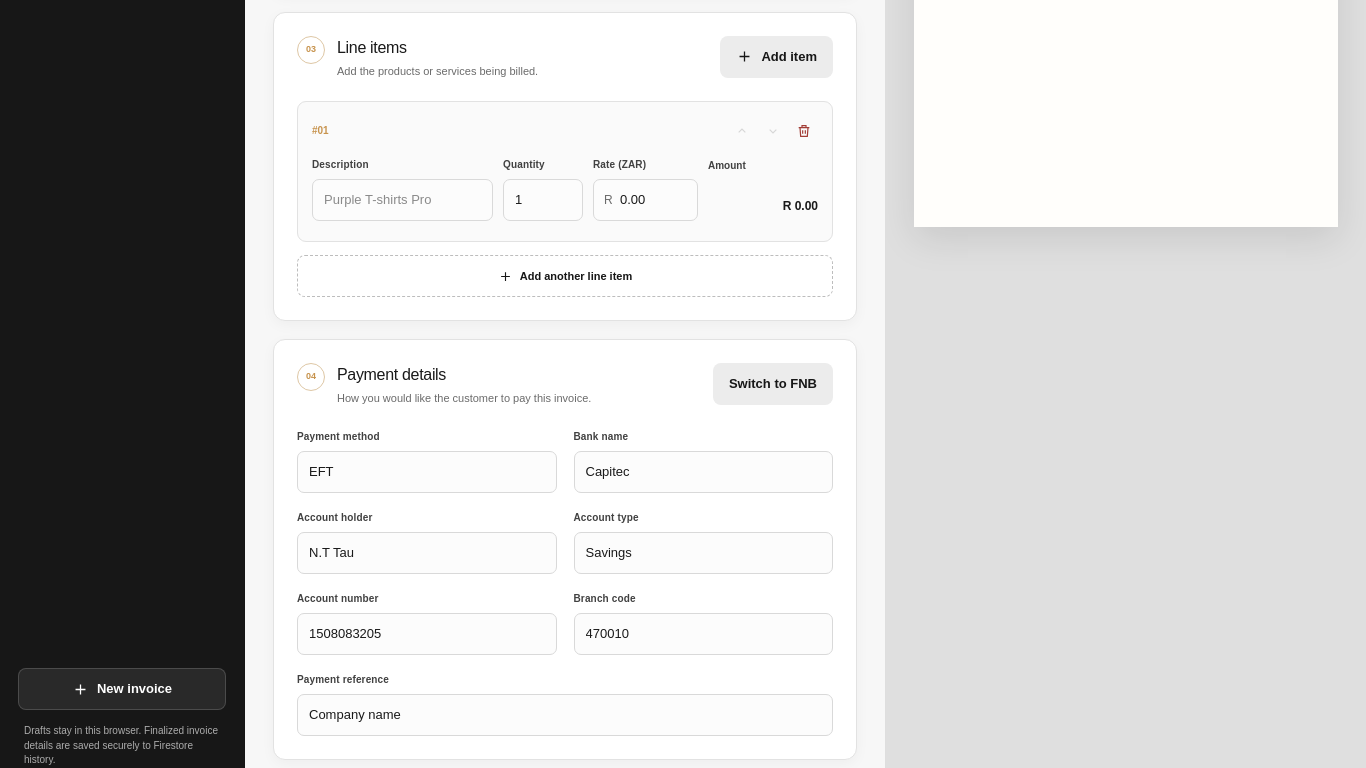
invoice workspace › switches between the FNB and Capitec payment presets
(page scrolled)
Click the button "Switch to FNB": (773, 384) top-left (713, 363), bottom-right (833, 405)
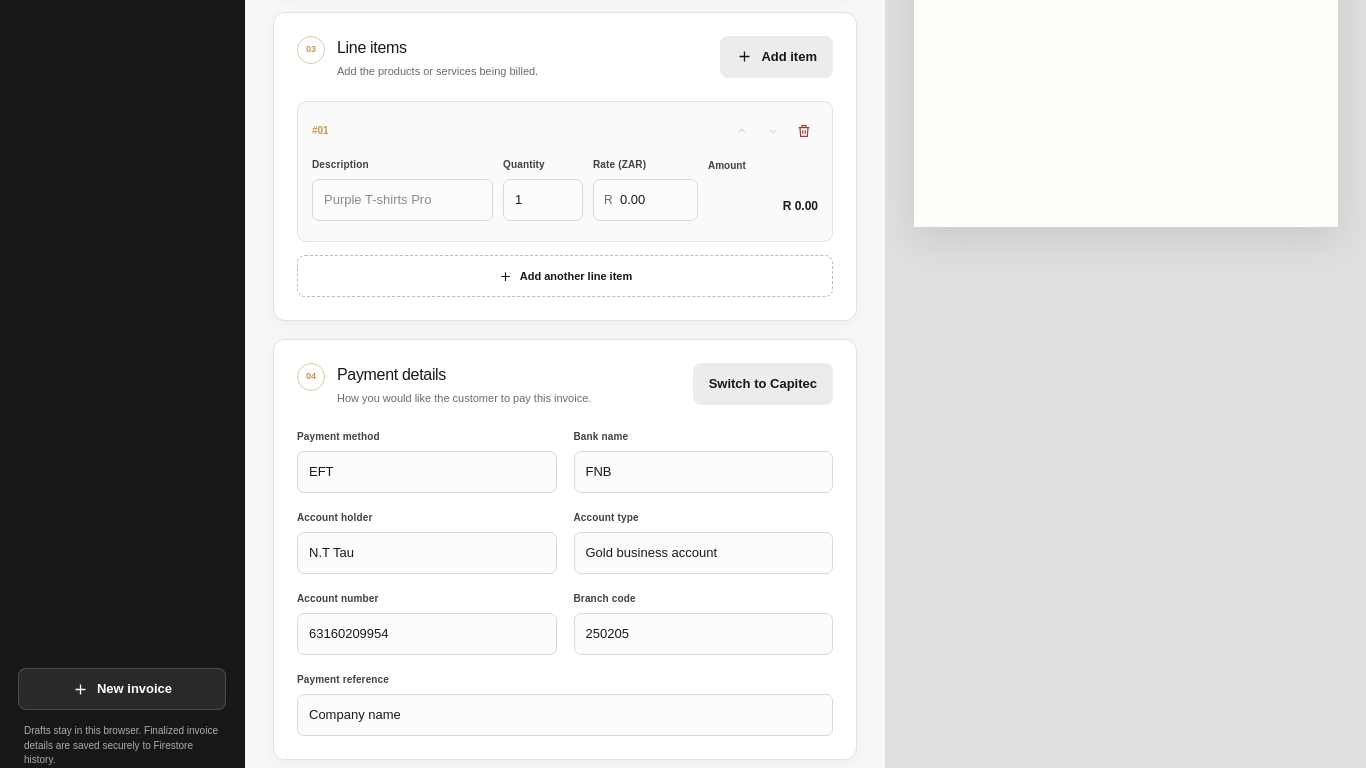
Expected: the field labelled "Bank name" holds "FNB", top-left (574, 450), bottom-right (833, 492)
Expected: the field labelled "Account type" holds "Gold business account", top-left (574, 532), bottom-right (833, 574)
Expected: the field labelled "Account number" holds "63160209954", top-left (297, 612), bottom-right (556, 654)
Click the button "Switch to Capitec": (763, 384) top-left (693, 363), bottom-right (833, 405)
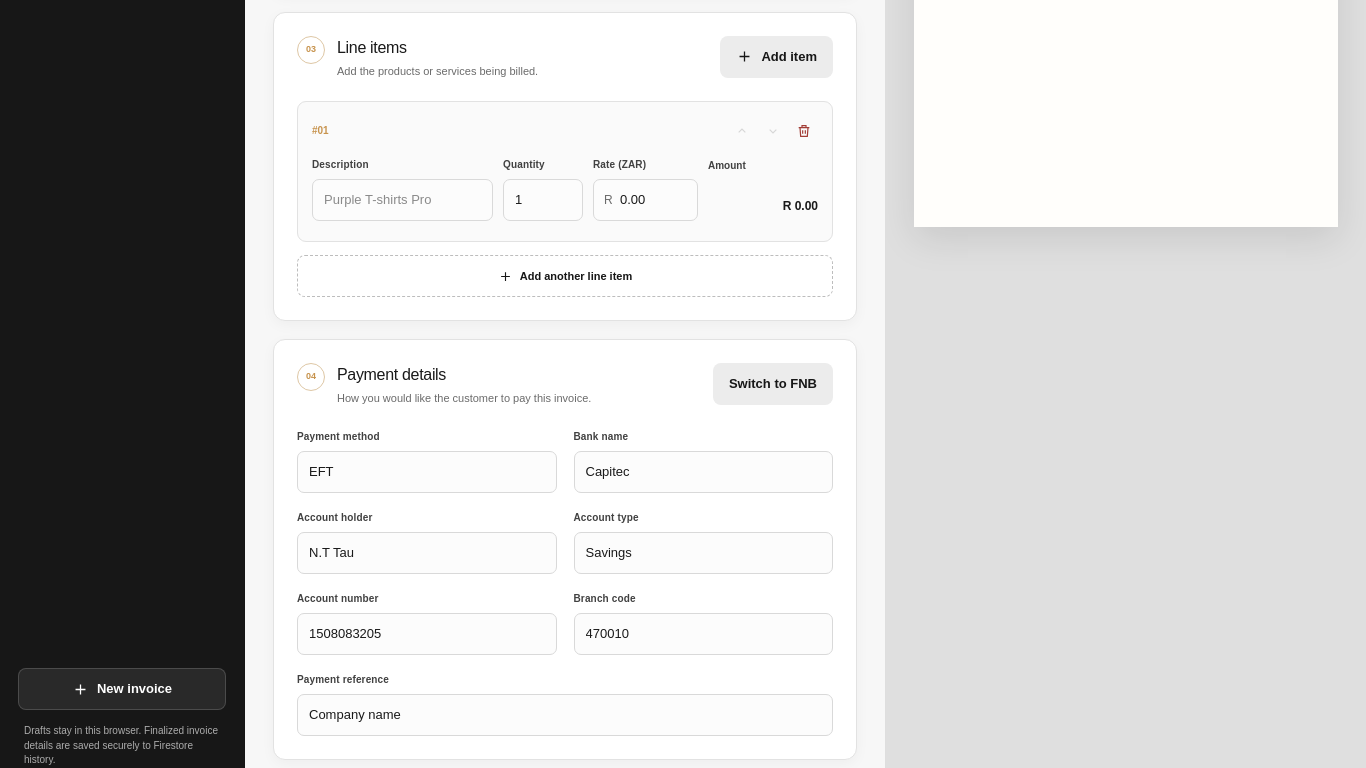
Expected: the field labelled "Bank name" holds "Capitec", top-left (574, 450), bottom-right (833, 492)
Expected: the field labelled "Account number" holds "1508083205", top-left (297, 612), bottom-right (556, 654)
Expected: the button "Switch to FNB" is shown, top-left (713, 363), bottom-right (833, 405)
